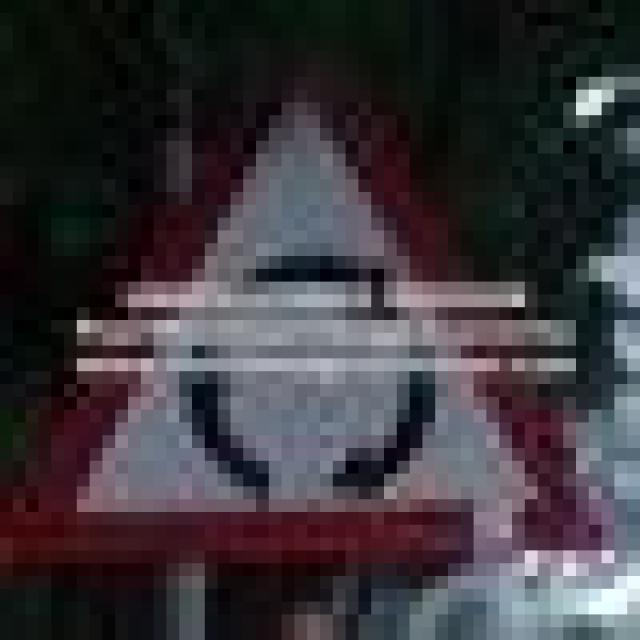roundabout: (18, 44, 624, 573)
